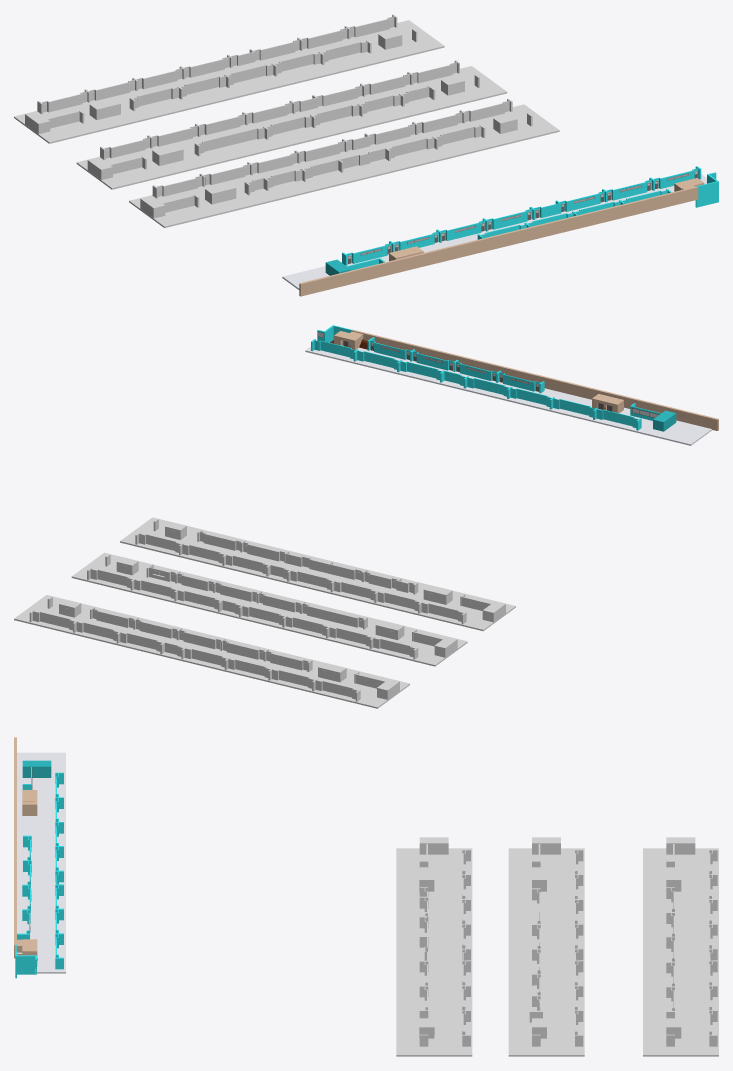
File: floormap.glb
The picture shows the model from 3 angles, top to bottom: view 1: azimuth 30°, elevation 25°; view 2: azimuth 150°, elevation 25°; view 3: azimuth 270°, elevation 25°; orthographic projection. The views are drawn at different scales.
Parts seen in each view (by area): view 1: Cube.342, Cube.135, Cube, Cube.904, Cube.341, Cube.046, Cube.349, Cube.128, Cube.042, Cube.915; view 2: Cube.342, Cube.135, Cube, Cube.341, Cube.904; view 3: Cube, Cube.342, Cube.135, Cube.341, Cube.904, Cube.045, Cube.352, Cube.331, Cube.125.
Part boxes in pixels (x1=…): Cube.342: x1=129, y1=104, x2=559, y2=227; Cube.135: x1=76, y1=66, x2=507, y2=189; Cube: x1=14, y1=20, x2=444, y2=143; Cube.904: x1=299, y1=186, x2=698, y2=296; Cube.341: x1=282, y1=186, x2=674, y2=289; Cube.046: x1=202, y1=128, x2=257, y2=151; Cube.349: x1=205, y1=183, x2=236, y2=204; Cube.128: x1=152, y1=144, x2=183, y2=165; Cube.042: x1=89, y1=98, x2=120, y2=119; Cube.915: x1=695, y1=181, x2=718, y2=207; Cube.342: x1=120, y1=517, x2=515, y2=631; Cube.135: x1=71, y1=552, x2=467, y2=666; Cube: x1=14, y1=595, x2=409, y2=708; Cube.341: x1=327, y1=345, x2=711, y2=445; Cube.904: x1=351, y1=329, x2=718, y2=430; Cube: x1=643, y1=848, x2=718, y2=1056; Cube.342: x1=396, y1=848, x2=472, y2=1056; Cube.135: x1=508, y1=848, x2=584, y2=1056; Cube.341: x1=17, y1=752, x2=65, y2=959; Cube.904: x1=14, y1=737, x2=16, y2=958; Cube.045: x1=666, y1=837, x2=695, y2=854; Cube.352: x1=419, y1=837, x2=448, y2=854; Cube.331: x1=22, y1=760, x2=51, y2=777; Cube.125: x1=532, y1=837, x2=560, y2=854.
Size of what is drawn, in the model's own units: 591 by 110 by 769.
